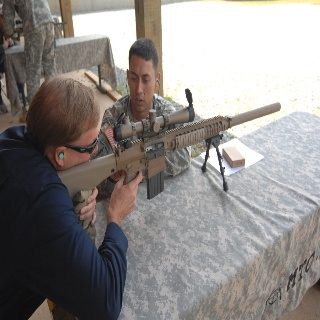rifle: (53, 88, 284, 201)
